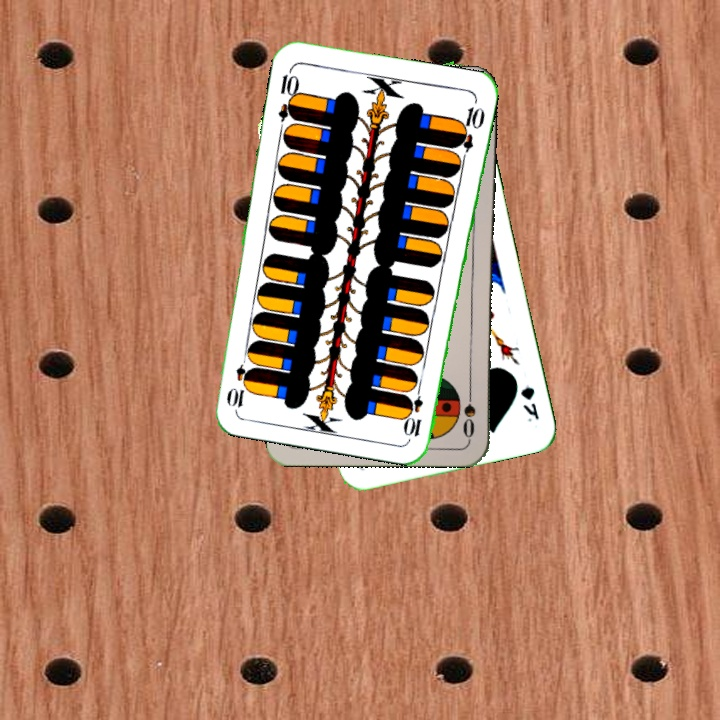E10: (274, 64, 302, 123), (403, 380, 426, 439)
GK: (516, 382, 542, 425)
SO: (459, 381, 478, 440)
